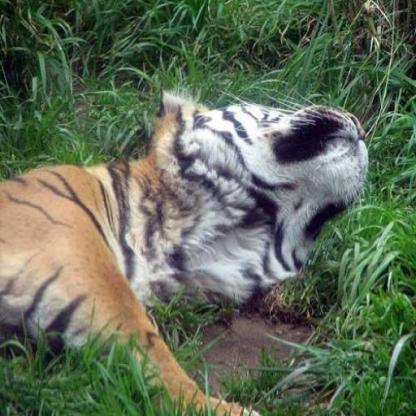Tiger: (4, 80, 375, 416)
